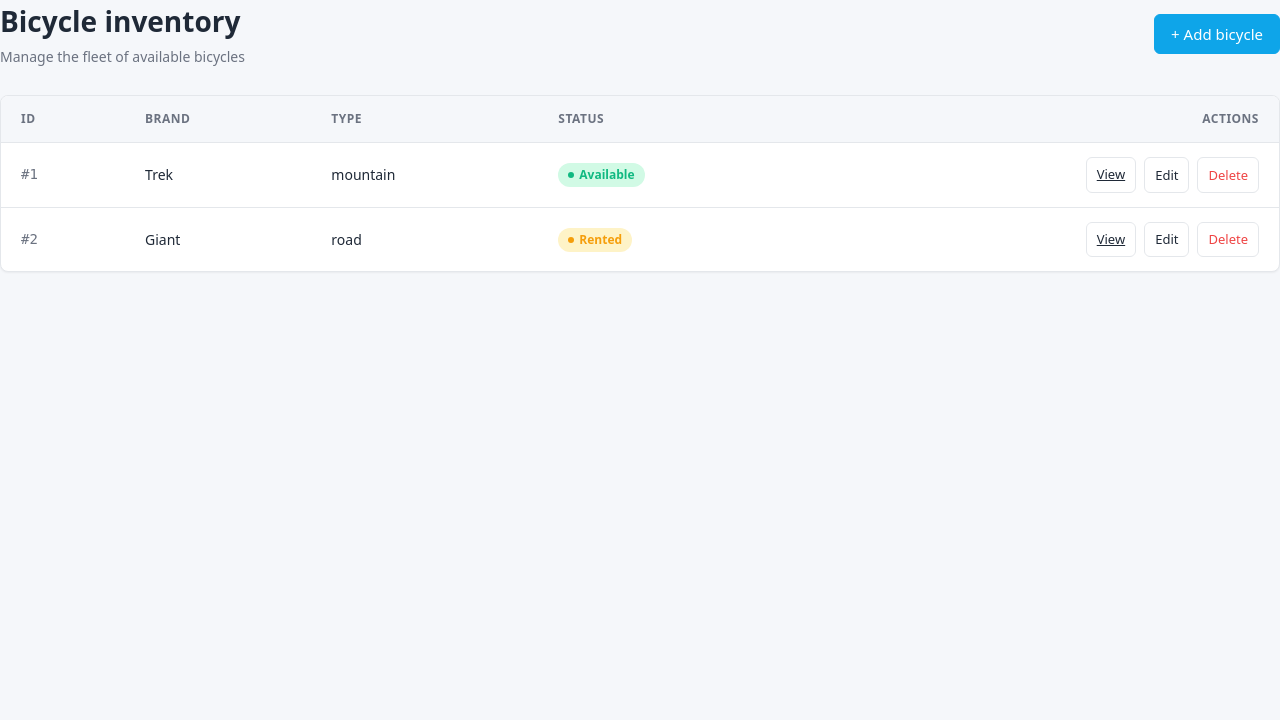
Scenario: BicyclesPage — admin user › opens New bicycle modal when Add bicycle is clicked
Expected: the text "Trek" is shown, [125,142,311,207]
Click the button "+ Add bicycle": (1217, 34) [1154,14,1279,54]
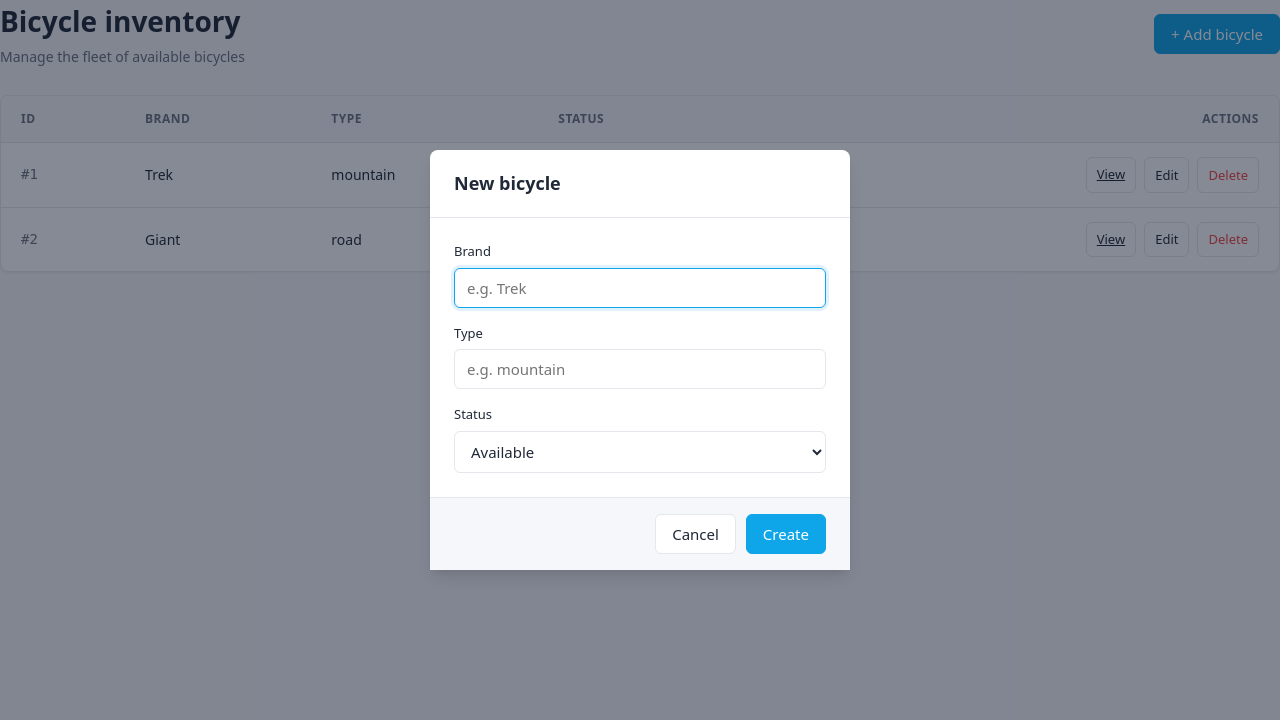
Now the heading "New bicycle" is shown, box [454,171,561,195]
